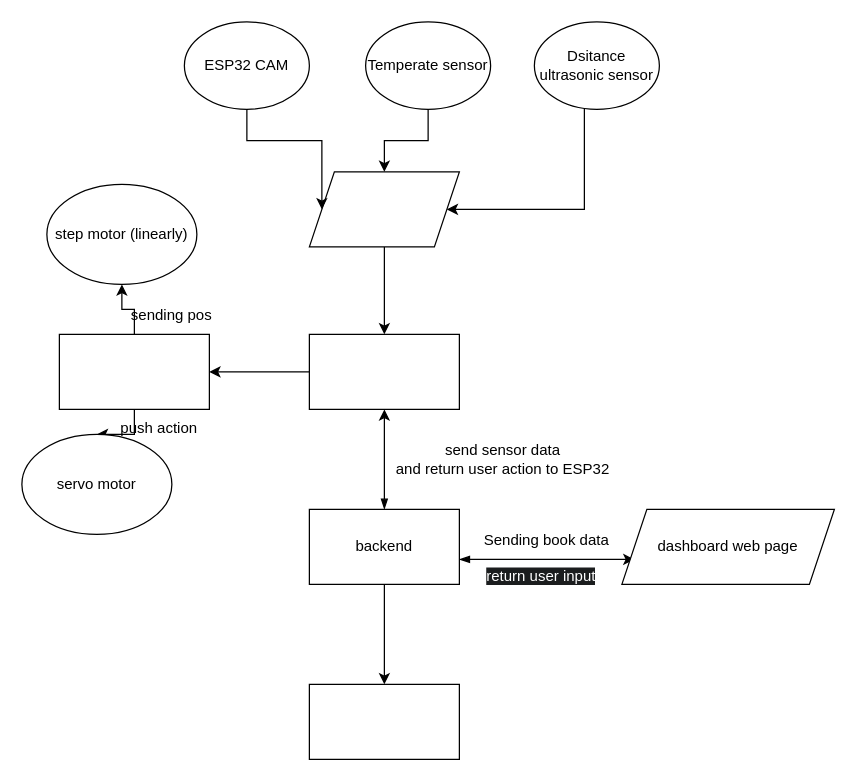
This 856x781 diagram has some shape labels left out. The centre of each missing label's shape, as x and y in pixels:
"AI Read Image and return position and book name" goes at (x=383, y=721).
"ESP32" goes at (x=383, y=371).
"motor" goes at (x=133, y=371).
"sensor" goes at (x=383, y=209).
